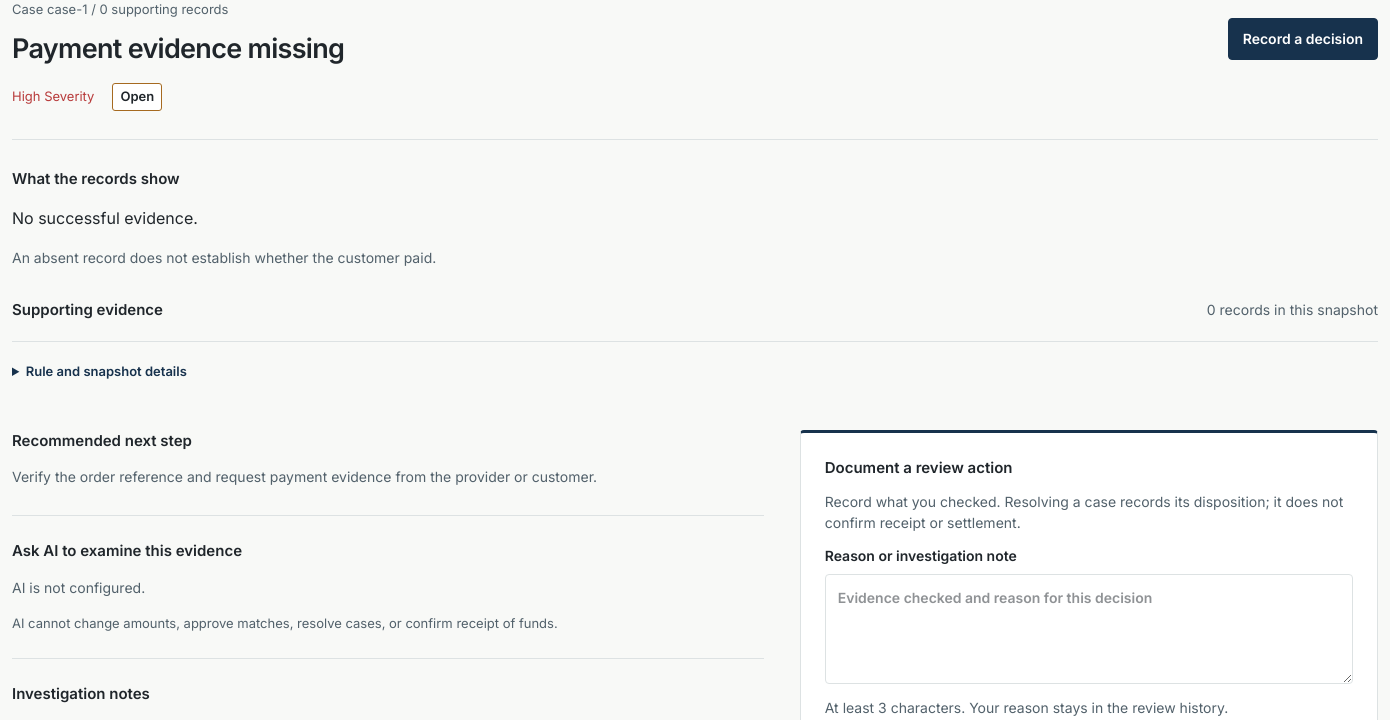
shows a stale-review conflict and preserves the written note
The width and height of the screenshot is (1390, 720).
In the text box labelled "Reason or investigation note": [1089, 629] box [825,574,1353,684], type "Keep this note."
(page scrolled)
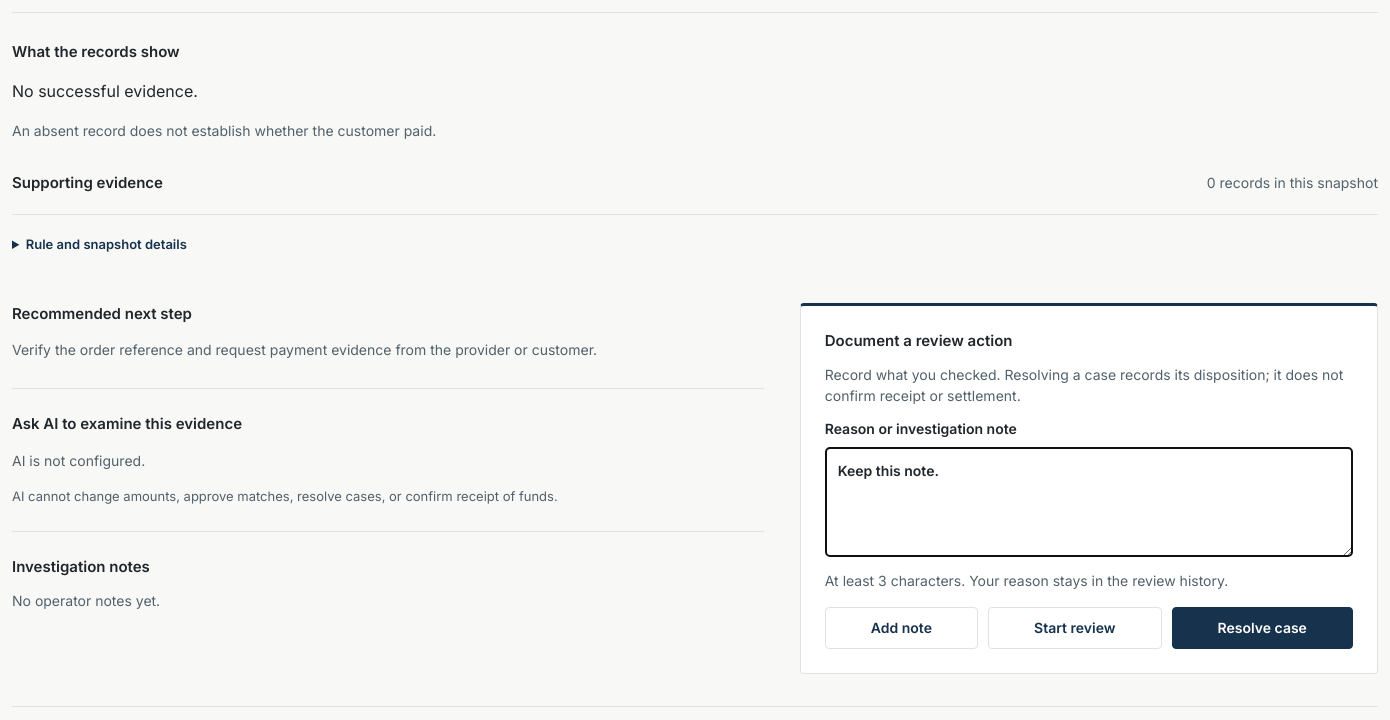
Click the button "Add note": [901, 628] box [825,607,978,649]
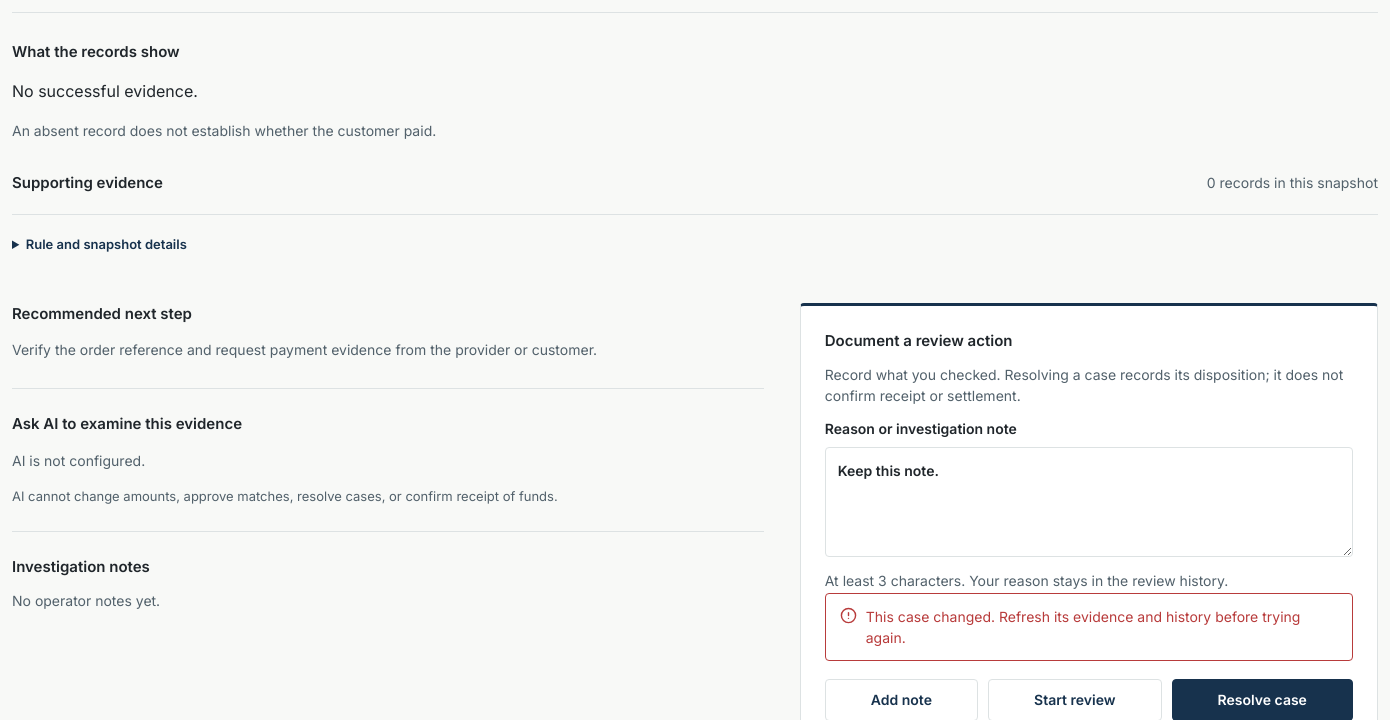
Expected: the message shows "This case changed.", [866,608,1300,646]
